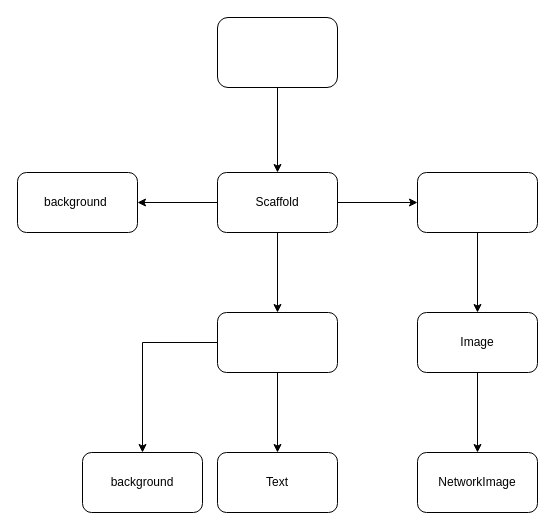
Image size: 555x530. Some labels were removed from this diagram. The shapes that lost their labels are listed below. From the top down, each one's centre as x and y in pixels, then its label:
the point at 277,52: Material App
the point at 477,202: Center
the point at 277,342: AppBar
